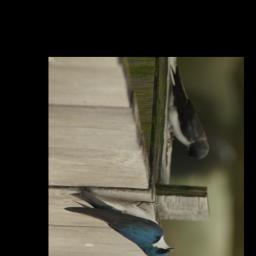Swallow: (64, 190, 174, 256)
